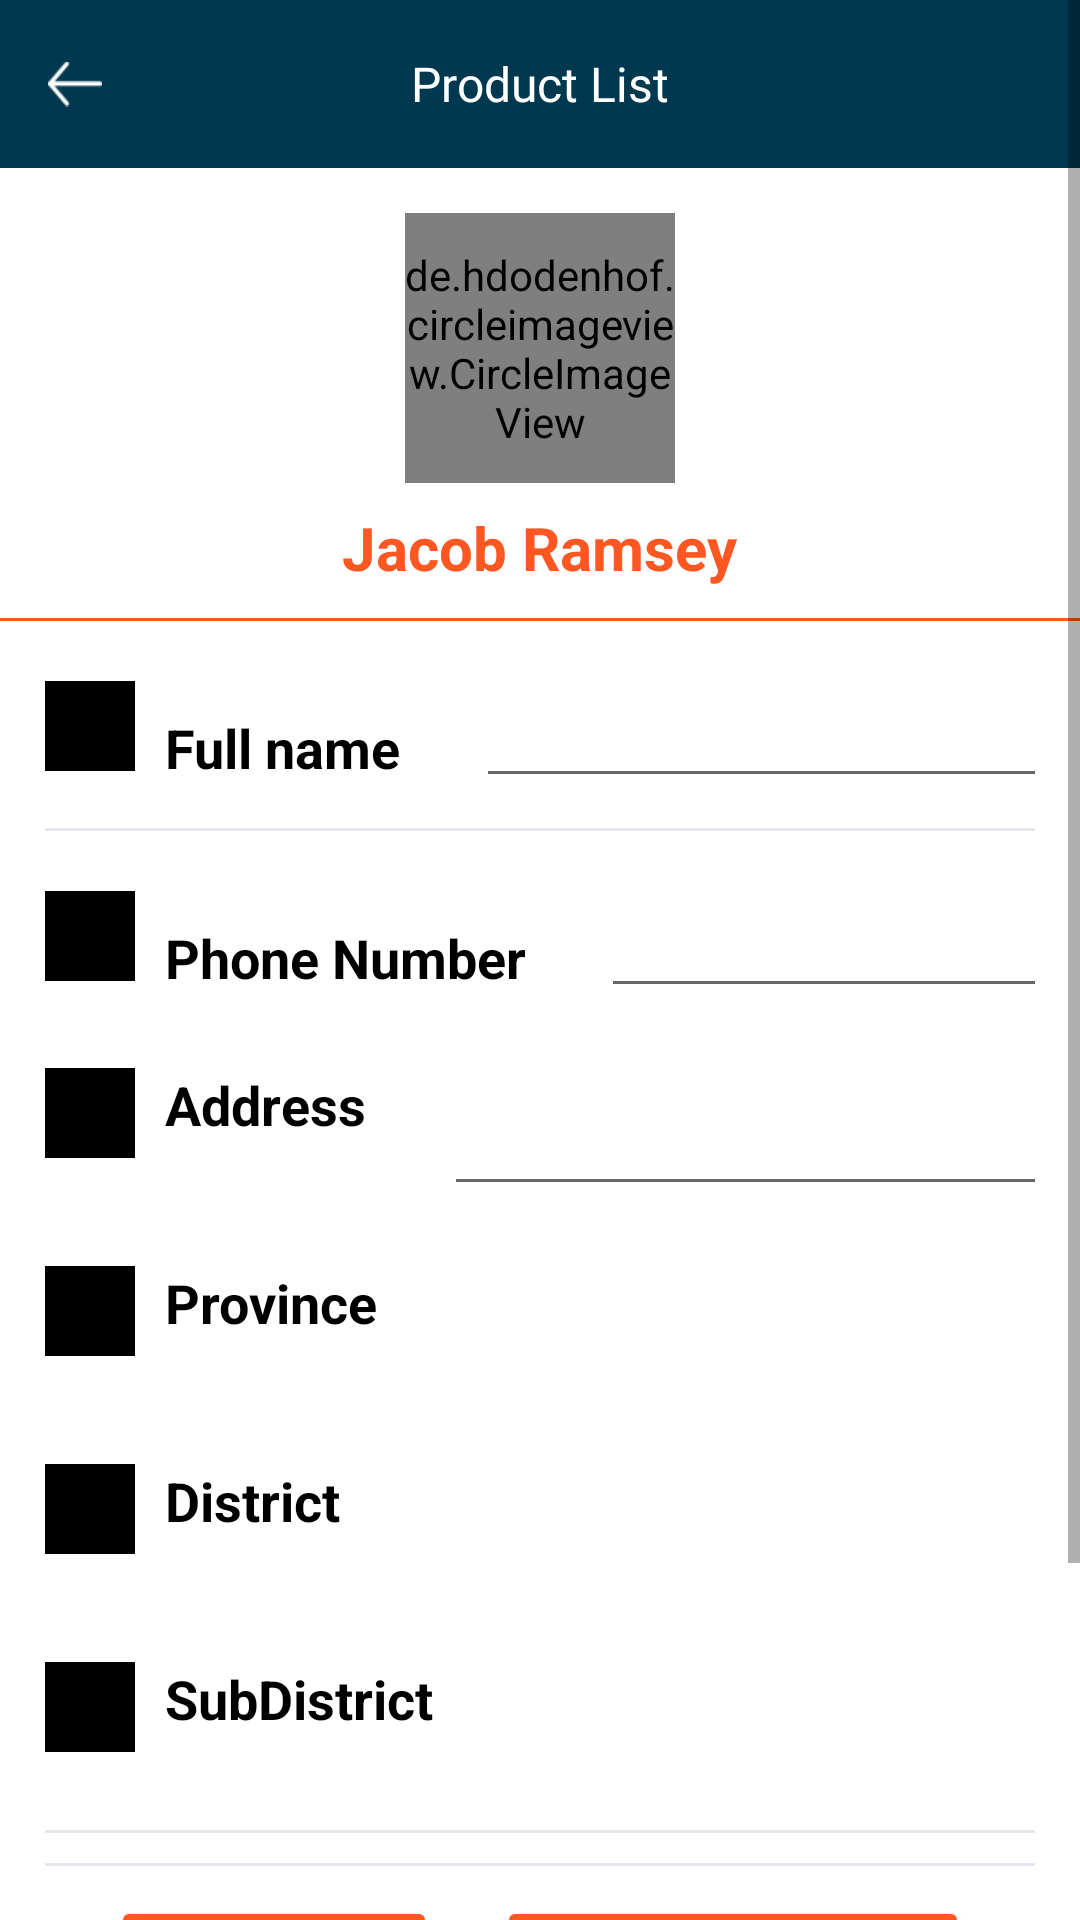

Screen size 1080×1920. Icon name, then its center in pixels as point (x, y):
back: point (75, 84)
